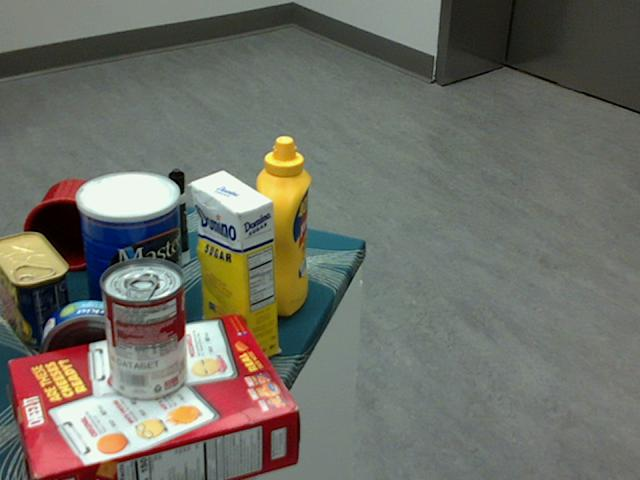cracker_box: (10, 314, 299, 479)
large_marker: (168, 168, 188, 263)
master_chef_can: (74, 171, 182, 334)
mug: (19, 179, 109, 271)
mustard_bottle: (253, 135, 310, 316)
potted_meat_can: (0, 230, 72, 347)
sugar_box: (190, 169, 278, 366)
tomato_soup_can: (98, 259, 185, 401)
tuna_fish_can: (40, 300, 135, 392)
